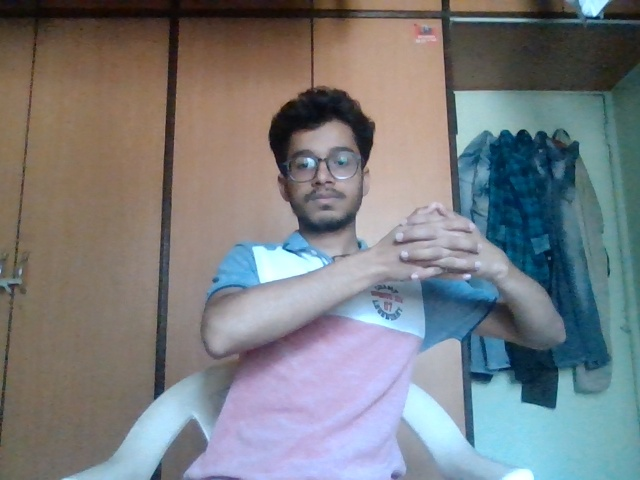good: (388, 193, 509, 304)
